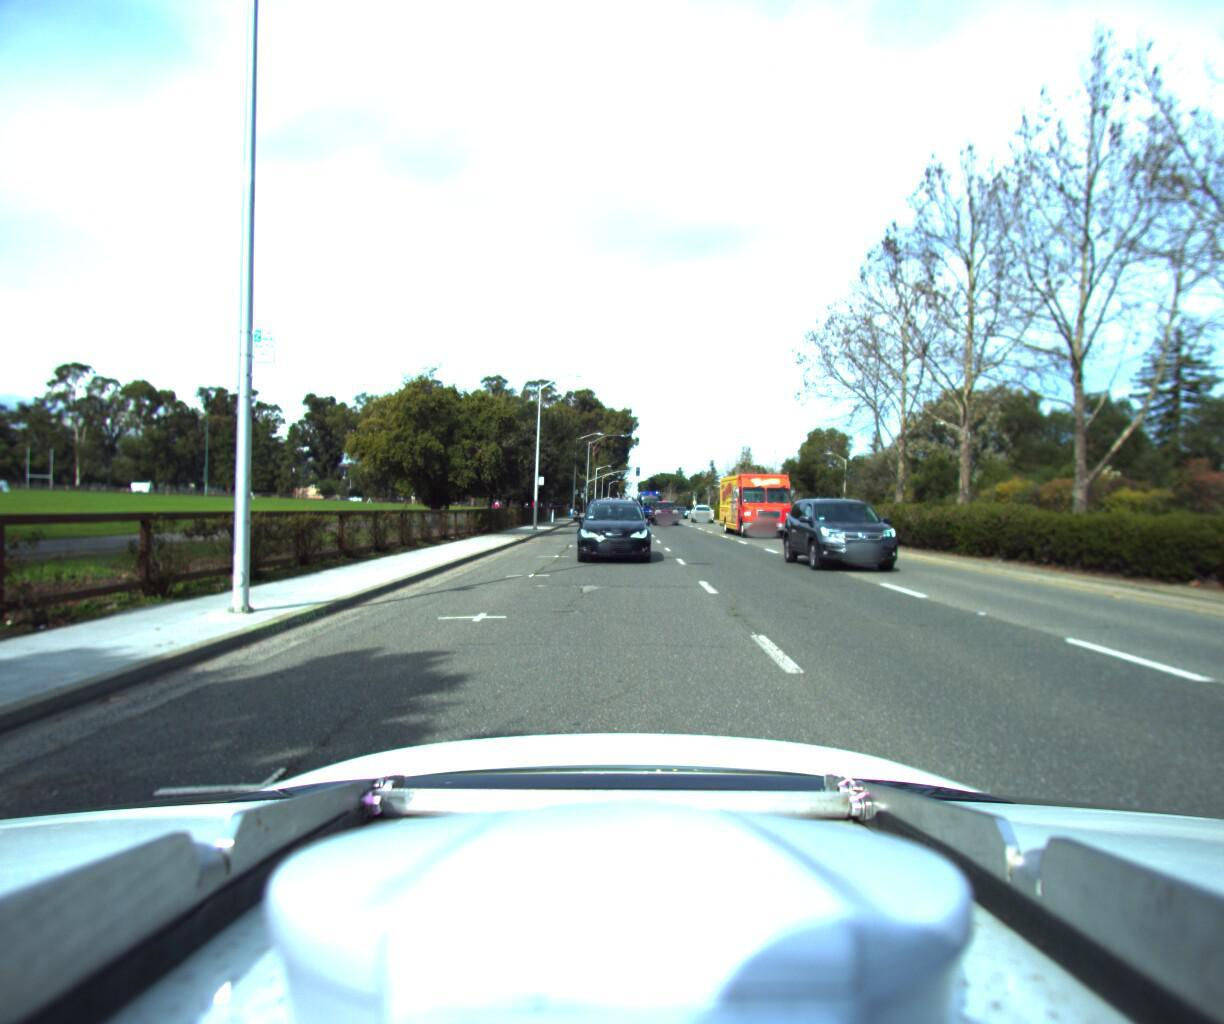car: (789, 491, 937, 579), (572, 488, 650, 562), (650, 492, 680, 519), (602, 489, 629, 513), (688, 496, 716, 516)
truck: (717, 467, 800, 540)
